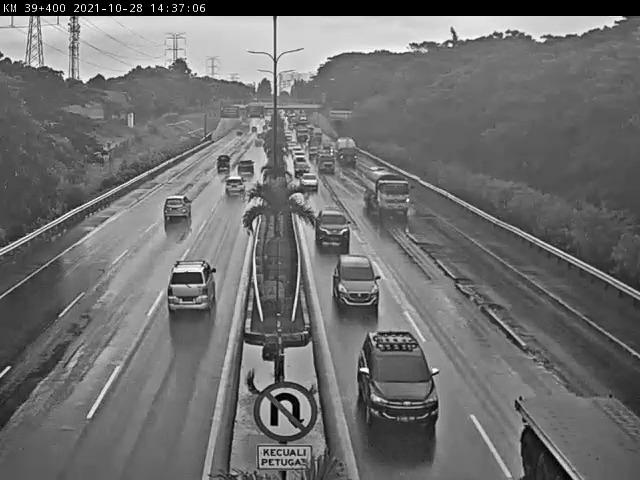car: (355, 326, 445, 434), (328, 249, 385, 312), (164, 259, 218, 317), (312, 207, 354, 252), (158, 191, 197, 228), (222, 169, 250, 196), (297, 171, 320, 195), (236, 156, 257, 174), (216, 153, 233, 172)
small truck: (359, 163, 415, 221)
